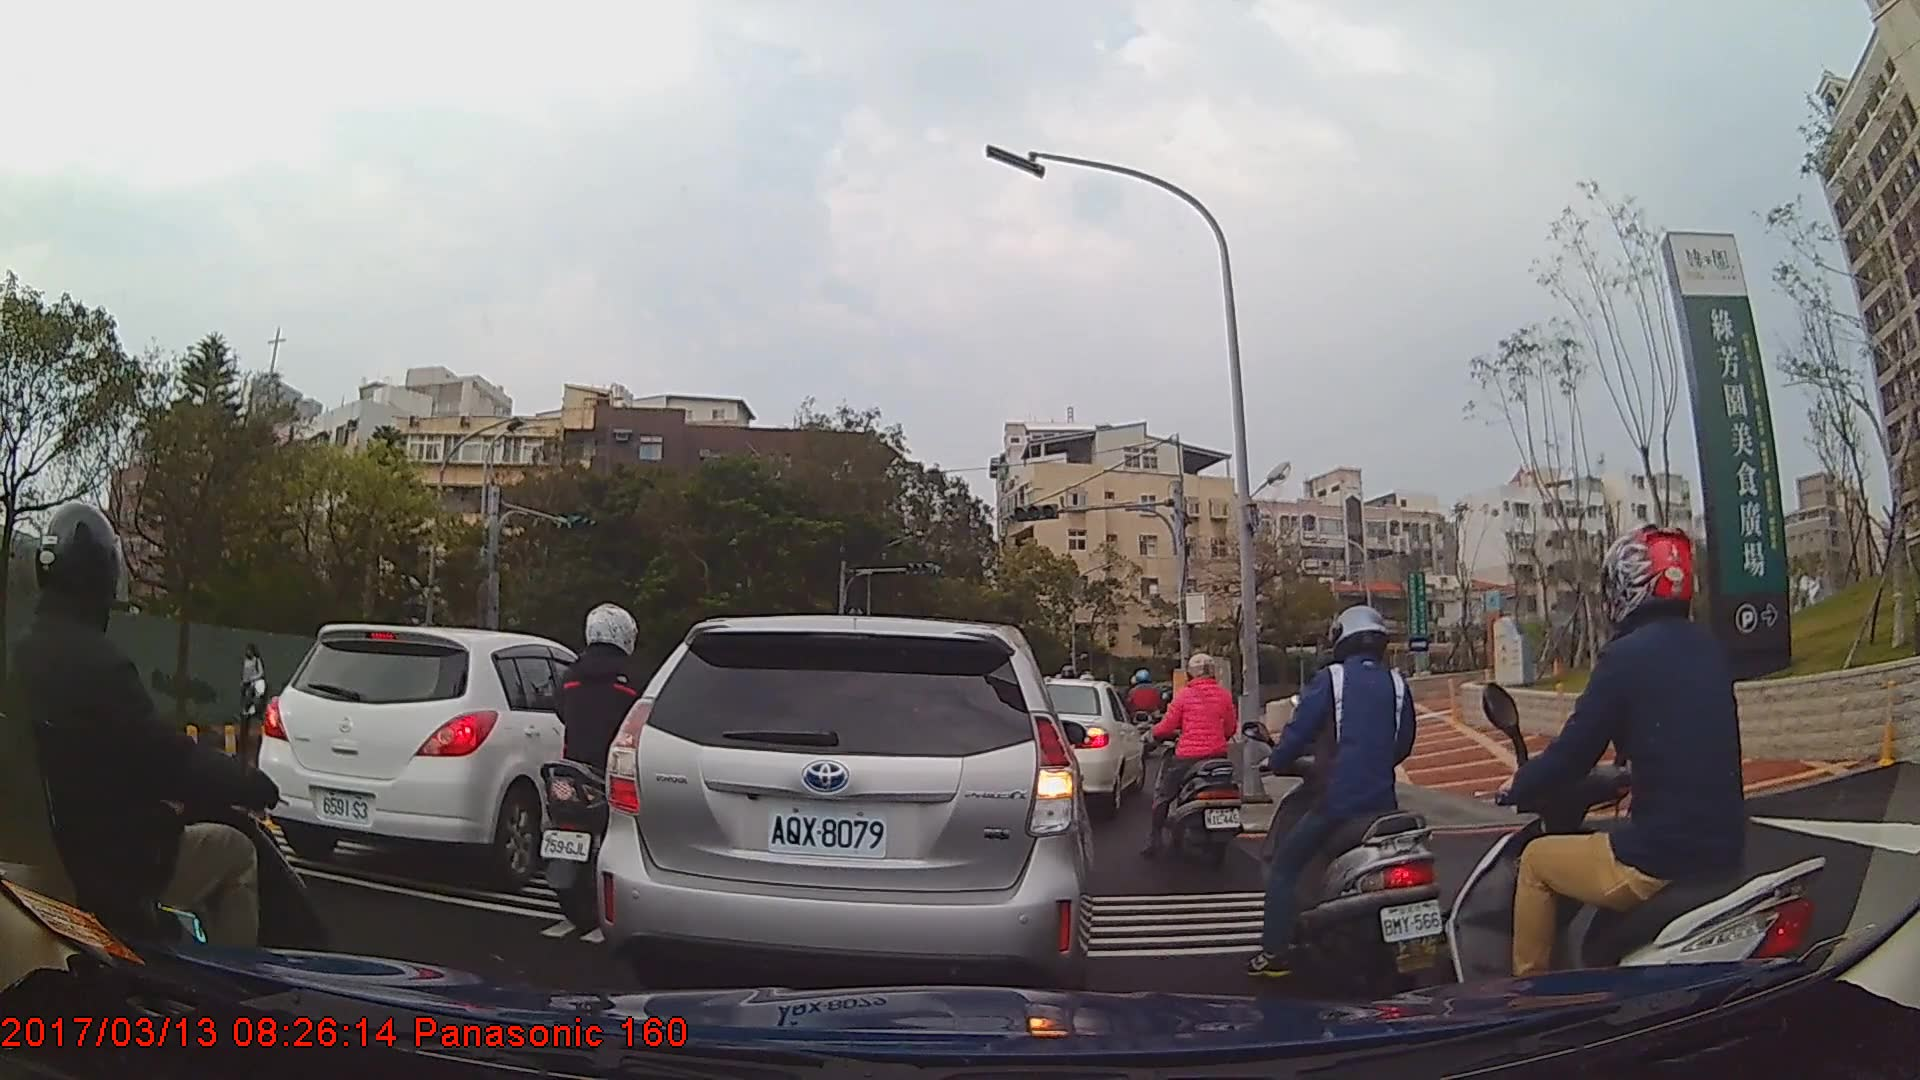pedestrian: (233, 645, 268, 724)
rider: (1442, 527, 1829, 1058), (1, 498, 345, 1080), (1241, 605, 1447, 1000), (535, 604, 682, 931), (1138, 652, 1246, 865), (1125, 668, 1166, 763)
vehicle: (594, 614, 1095, 997), (257, 622, 646, 883), (1039, 676, 1146, 817)
